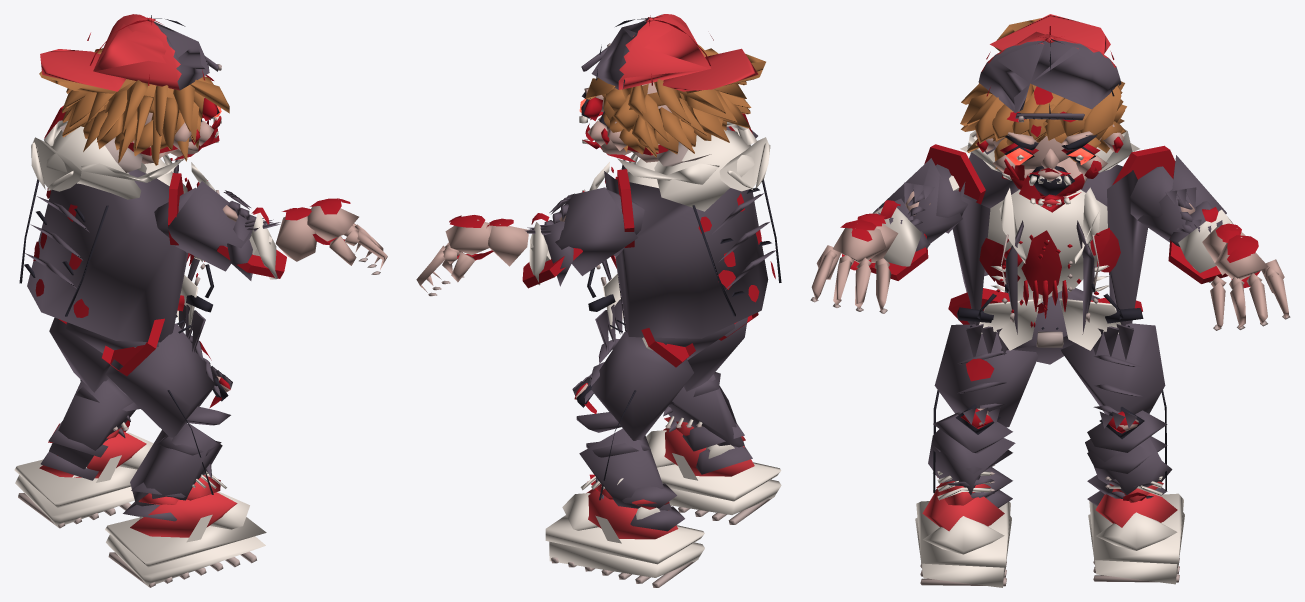
Rendered from inf.teen-skater.lod2.glb.
3 views of the same model, side by side, from view 1: azimuth 30°, elevation 25°; view 2: azimuth 150°, elevation 25°; view 3: azimuth 270°, elevation 25° (orthographic). The views are drawn at different scales.
Visible parts, largest first — view 1: torso, head, footR, footL, legR, shinR, shinL, armR, foreArmR, handR, legL, stump_legR (+3 smaller); view 2: torso, head, footL, footR, legL, shinL, armL, shinR, foreArmL, handL, legR, stump_legL (+3 smaller); view 3: torso, head, footR, footL, legR, legL, shinL, shinR, handR, handL, armL, armR (+7 smaller).
Boxes of the visible parts, x1,y1,x2,y2 form: torso: [19, 120, 219, 352]; head: [39, 14, 229, 165]; footR: [105, 471, 266, 587]; footL: [14, 422, 153, 528]; legR: [105, 323, 232, 494]; shinR: [123, 406, 230, 521]; shinL: [40, 378, 140, 480]; armR: [154, 181, 256, 271]; foreArmR: [227, 207, 316, 280]; handR: [307, 198, 387, 274]; legL: [49, 317, 110, 392]; stump_legR: [102, 318, 164, 376]; torso: [582, 122, 781, 351]; head: [579, 14, 765, 162]; footL: [545, 476, 704, 587]; footR: [646, 416, 781, 524]; legL: [572, 332, 693, 500]; shinL: [576, 412, 684, 531]; armL: [544, 187, 644, 275]; shinR: [663, 372, 752, 474]; foreArmL: [486, 213, 573, 286]; handL: [416, 215, 493, 296]; legR: [684, 317, 747, 391]; stump_legL: [641, 328, 695, 367]; torso: [952, 129, 1147, 360]; head: [960, 14, 1126, 212]; footR: [915, 465, 1011, 587]; footL: [1088, 476, 1184, 584]; legR: [933, 324, 1038, 493]; legL: [1061, 323, 1166, 490]; shinL: [1085, 410, 1172, 506]; shinR: [928, 412, 1015, 507]; handR: [810, 220, 891, 313]; handL: [1210, 235, 1290, 330]; armL: [1130, 155, 1226, 242]; armR: [873, 158, 976, 243].
Bounding box in the file's own units: 0.6967 × 1.38 × 1.14.
